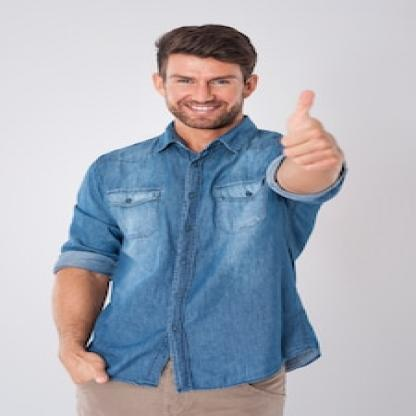thumb_up: (273, 83, 347, 173)
